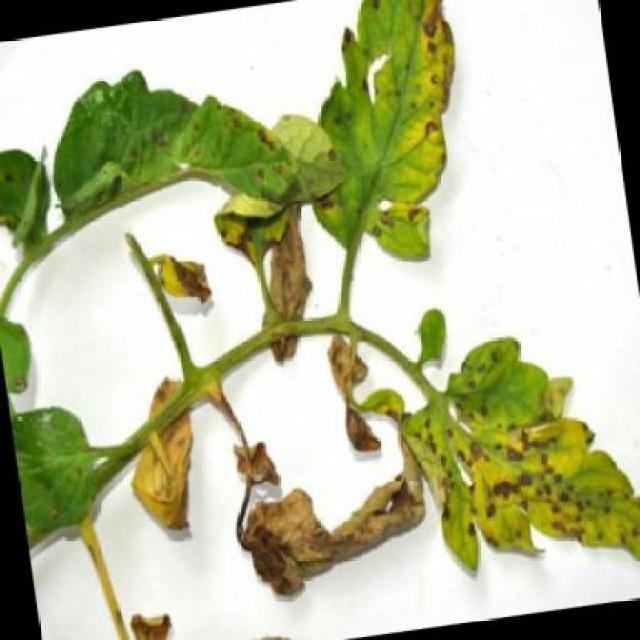Septoria leaf spot: (328, 286, 640, 620), (26, 32, 362, 274), (274, 0, 492, 285)
